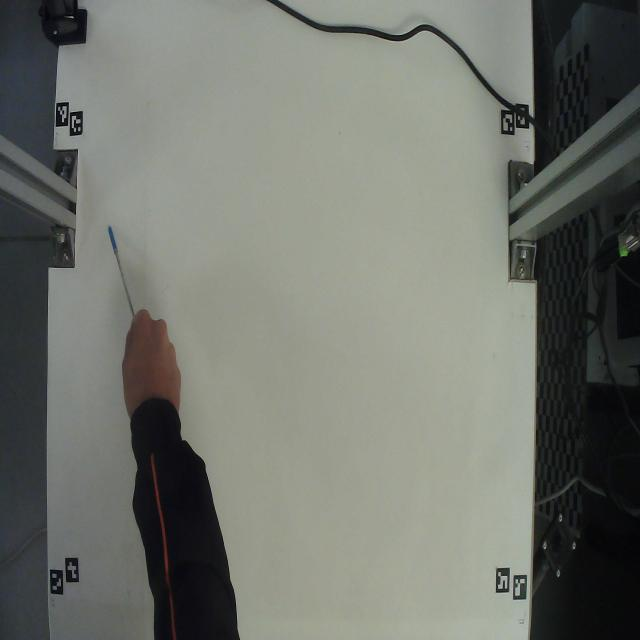Pres: (100, 211, 152, 327)
